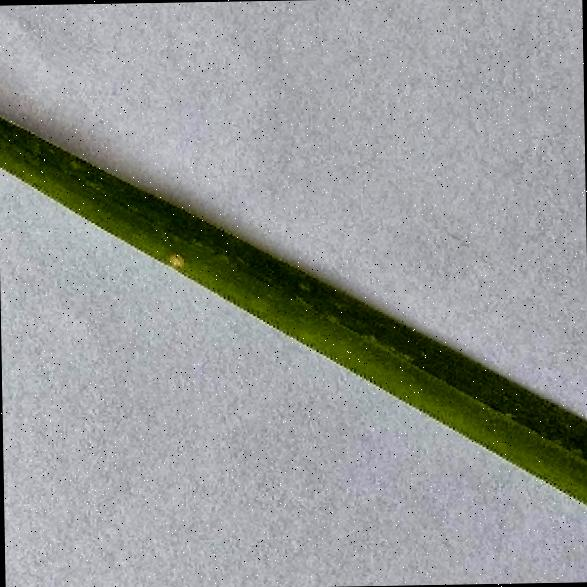Leaf_smut: (158, 240, 204, 272)
